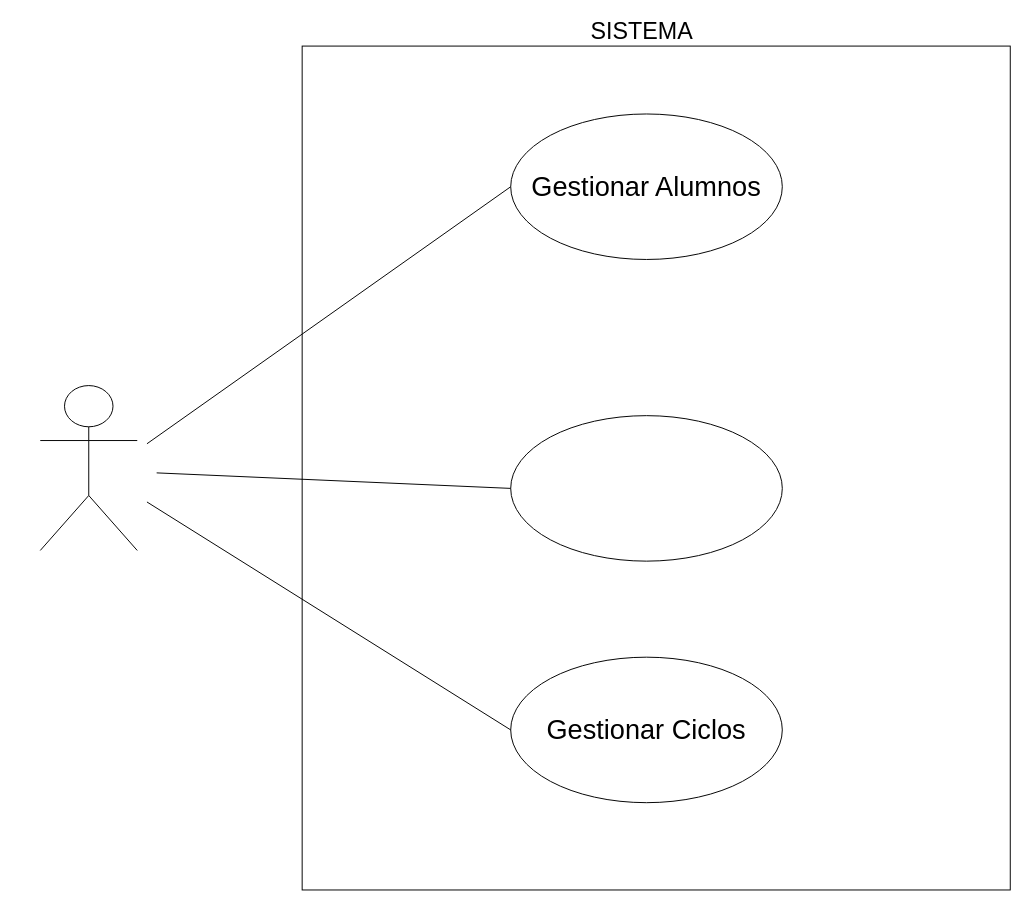
Image size: 1027x907. Some labels were removed from this diagram. Each missing label, with the centre of its shape:
Administrador: pixel 88 467
Gestionar Modulos: pixel 646 488
